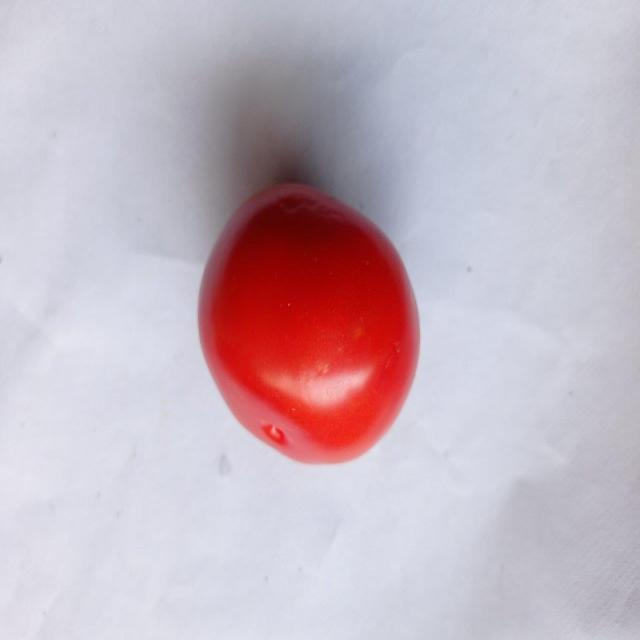Tomato: (195, 179, 425, 470)
